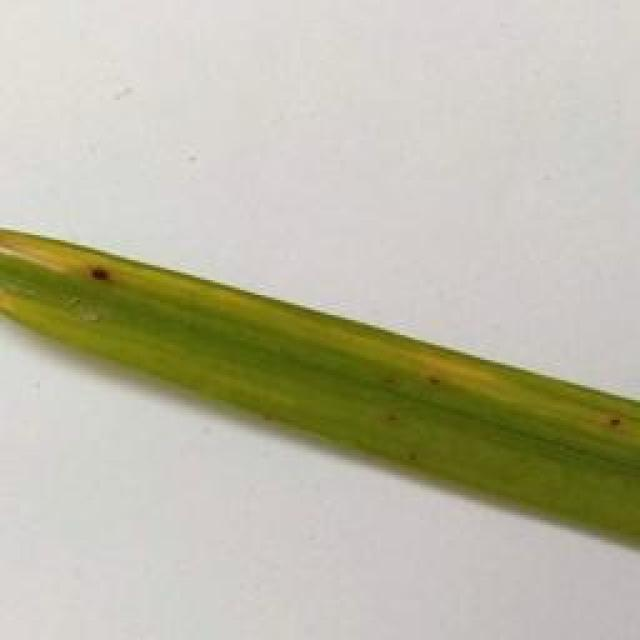Brown_Spot: (424, 366, 460, 391), (88, 260, 124, 282), (601, 402, 627, 432), (386, 404, 409, 428), (402, 441, 421, 469), (379, 371, 401, 393)
